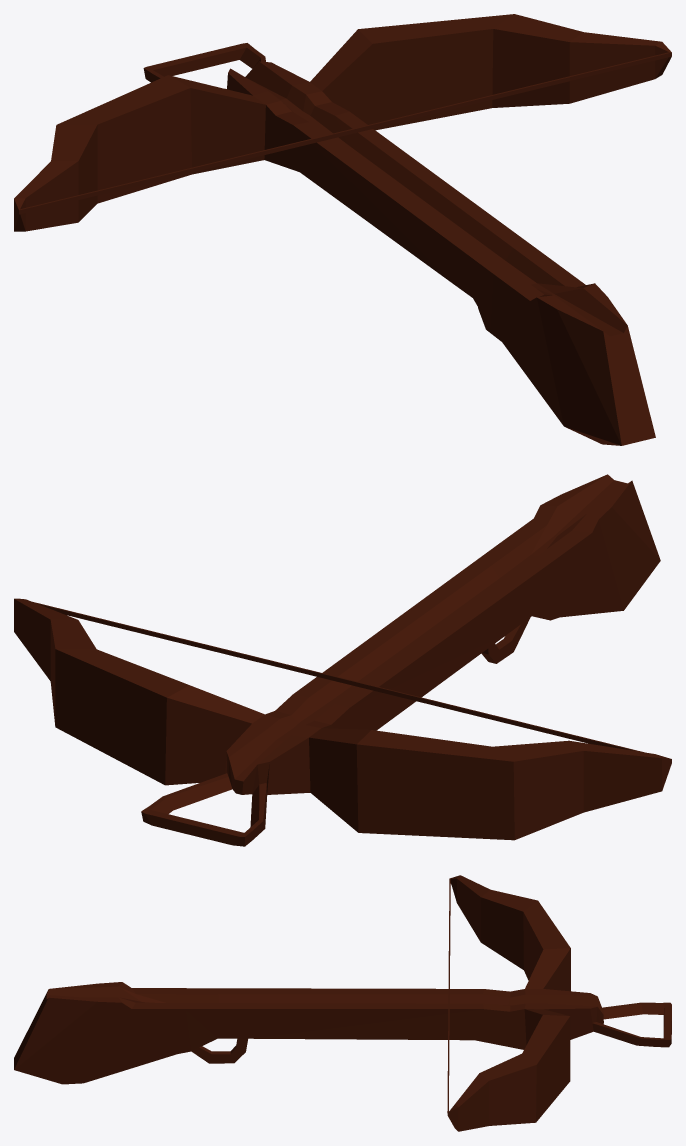
File: Crossbow.glb
3 views of the same model, one above another, from view 1: azimuth 30°, elevation 25°; view 2: azimuth 150°, elevation 25°; view 3: azimuth 270°, elevation 25° (orthographic). The views are drawn at different scales.
Visible parts, largest first — view 1: Crossbow; view 2: Crossbow; view 3: Crossbow.
Boxes of the visible parts, box(x1,y1,x2,y2) form: Crossbow: box(14, 14, 671, 445); Crossbow: box(14, 474, 671, 846); Crossbow: box(14, 875, 671, 1131).
Size of the model in its own units: 86 by 17.43 by 102.
